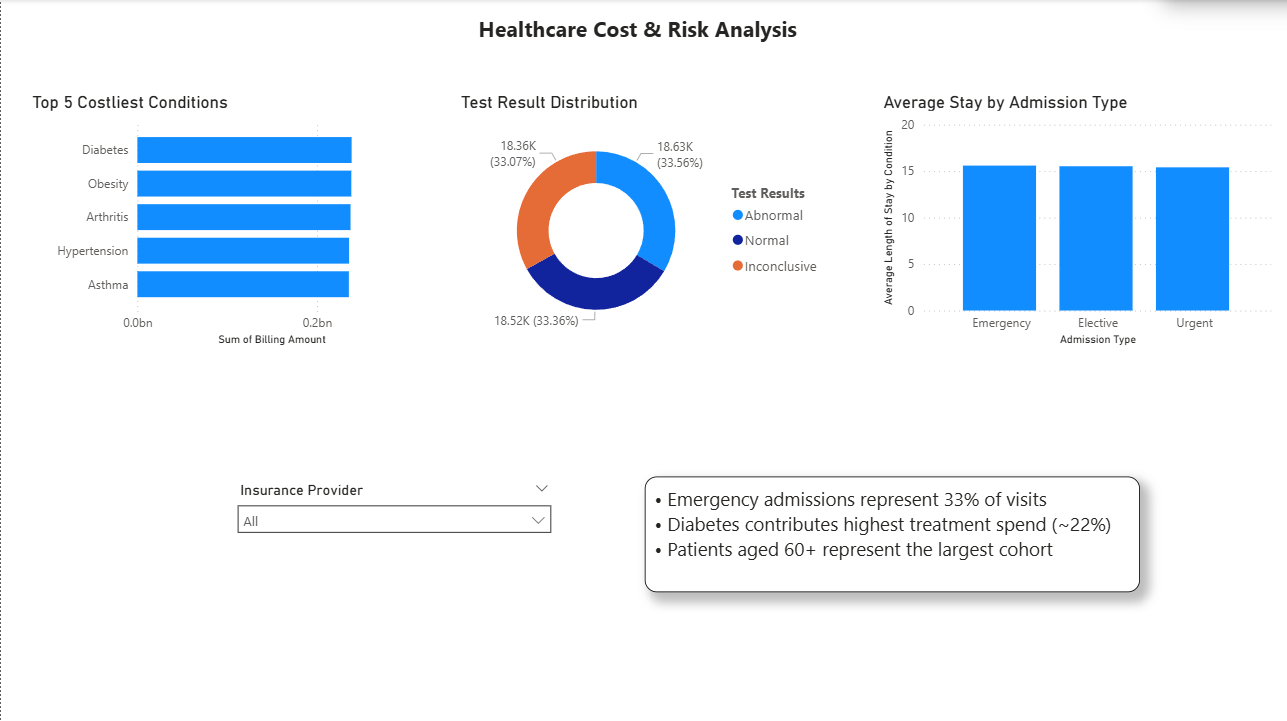

Layout of this report page (visuals, bound fields, positions):
{"tool":"powerbi","page":{"name":"Healthcare Cost & Risk Analysis","canvas":[1280,720],"ordinal":1},"visuals":[{"type":"clusteredColumnChart","title":"Average Stay by Admission Type","fields":{"Category":["healthcare_dataset.Admission Type"],"Y":["Avg(healthcare_dataset.Length_of_Stay)"]},"box":[873.3,92.2,396.6,258],"z":0},{"type":"donutChart","title":"Test Result Distribution","fields":{"Category":["healthcare_dataset.Test Results"],"Y":["CountNonNull(healthcare_dataset.Patient_Name)"]},"box":[452.8,92.5,373.2,258],"z":1000},{"type":"textbox","box":[639.5,450.6,492.6,115.3],"z":2000},{"type":"textbox","box":[470.7,9.6,338.9,39.8],"z":3000},{"type":"clusteredBarChart","title":"Top 5 Costliest Conditions","fields":{"Category":["healthcare_dataset.Diagnosis"],"Y":["Sum(healthcare_dataset.Billing Amount)"]},"box":[26.6,92.2,397.9,258],"z":5000},{"type":"slicer","fields":{"Values":["healthcare_dataset.Insurance Provider"]},"box":[225,450.1,332.1,115.3],"z":5001}]}

Visuals, with their boxes in screenshot pixels (x1, y1, x2, y2), scaled from the page's 1280x720 canvas onto the 1287x721 screenshot:
"Average Stay by Admission Type" clusteredColumnChart: 878,92,1277,351
"Test Result Distribution" donutChart: 455,93,831,351
textbox: 643,451,1138,567
textbox: 473,10,814,49
"Top 5 Costliest Conditions" clusteredBarChart: 27,92,427,351
slicer - healthcare_dataset.Insurance Provider: 226,451,560,566
